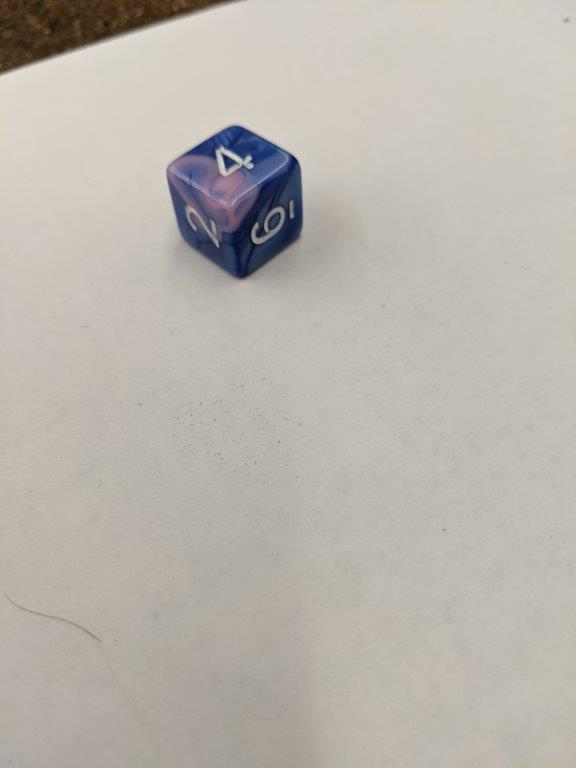d6-4: (165, 123, 305, 278)
